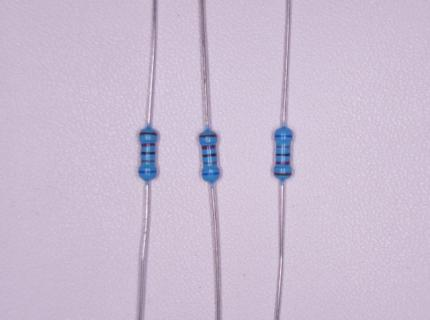Black band: (202, 153, 217, 158), (141, 152, 155, 155), (276, 153, 290, 156)
Blue band: (202, 172, 220, 176), (274, 135, 293, 138), (139, 170, 157, 173)
Brown band: (139, 132, 157, 136), (273, 173, 292, 175), (199, 135, 217, 137)
Grey band: (203, 161, 217, 165), (141, 160, 155, 163), (276, 146, 290, 148)
Red band: (202, 145, 217, 149), (142, 143, 156, 147), (277, 161, 291, 165)
